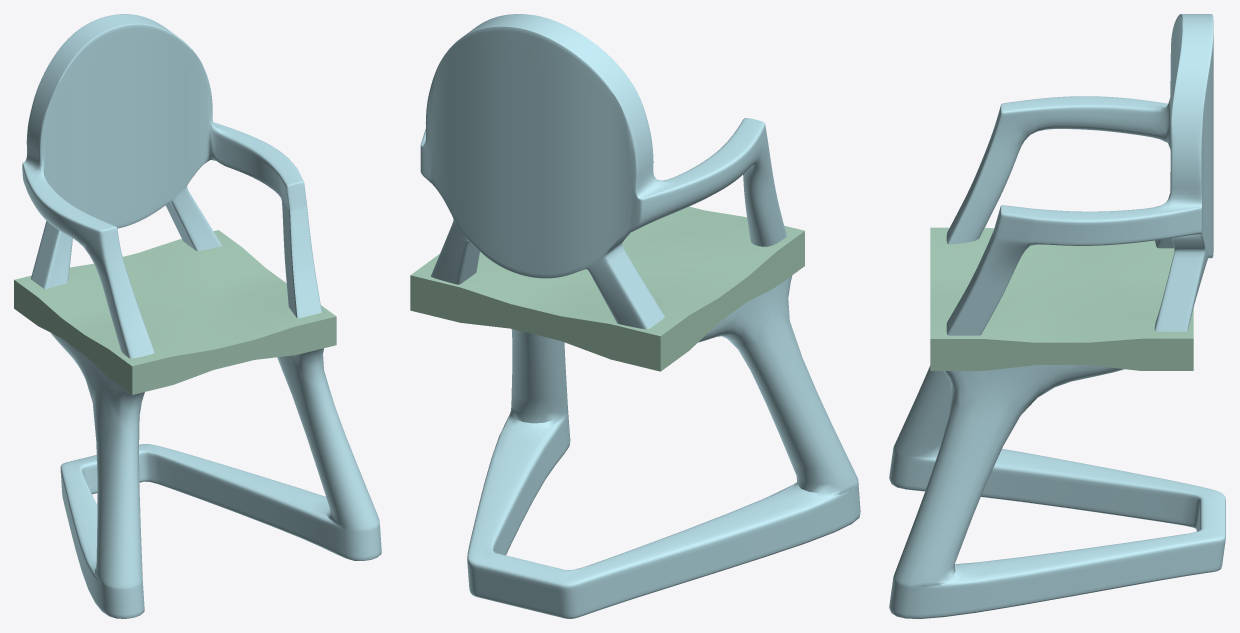
3 views of the same model, side by side, from view 1: azimuth 30°, elevation 25°; view 2: azimuth 150°, elevation 25°; view 3: azimuth 270°, elevation 25° (orthographic). The views are drawn at different scales.
Parts seen in each view (by area): view 1: split_parent_1, Object_2; view 2: split_parent_1, Object_2; view 3: split_parent_1, Object_2.
Part boxes in pixels (bbox=[...]): split_parent_1: bbox=[22, 14, 381, 618]; Object_2: bbox=[14, 230, 336, 394]; split_parent_1: bbox=[420, 14, 860, 618]; Object_2: bbox=[410, 206, 804, 371]; split_parent_1: bbox=[889, 14, 1225, 618]; Object_2: bbox=[930, 227, 1193, 370].
Size of the model in its own units: 0.6097 by 1 by 0.5809.
